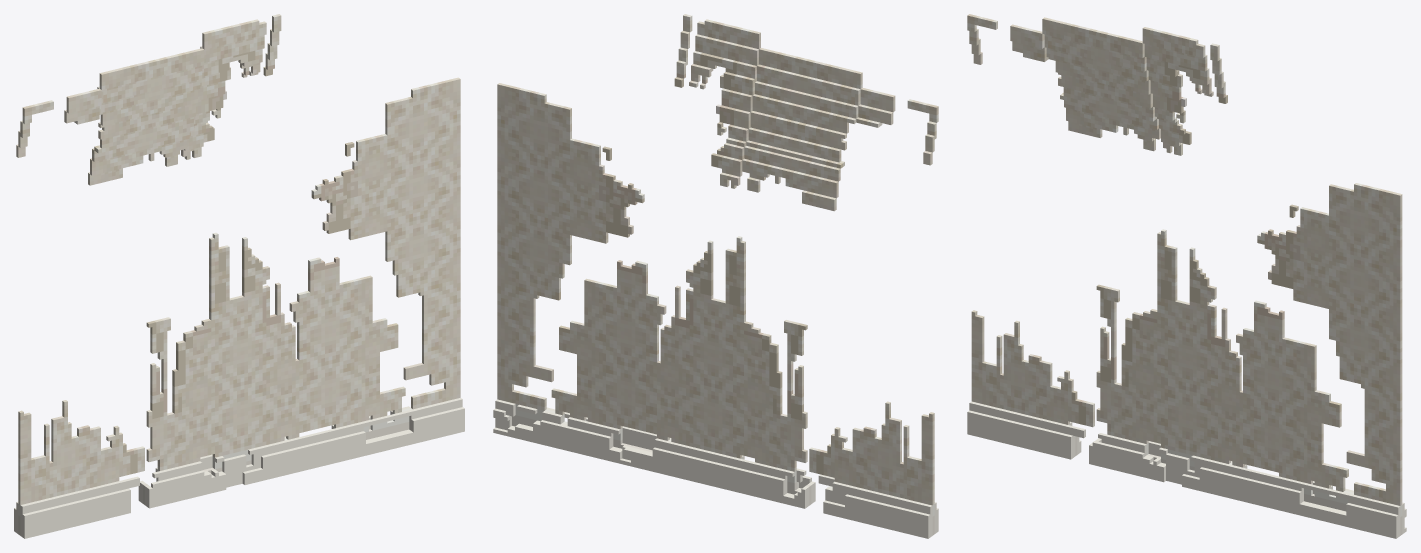
Rendered from walll3.vox.obj.
3 views of the same model, side by side, from view 1: azimuth 30°, elevation 25°; view 2: azimuth 150°, elevation 25°; view 3: azimuth 330°, elevation 25° (orthographic). The views are drawn at different scales.
Visible parts, largest first — view 1: walll; view 2: walll; view 3: walll.
Part boxes in pixels (box(x1,y1,x2,y2)): walll: box(14, 14, 464, 538); walll: box(493, 14, 938, 538); walll: box(967, 14, 1406, 538).
Size of the model in its own units: 12 by 12 by 1.1.
Materials: 1 (1 with a texture image).
